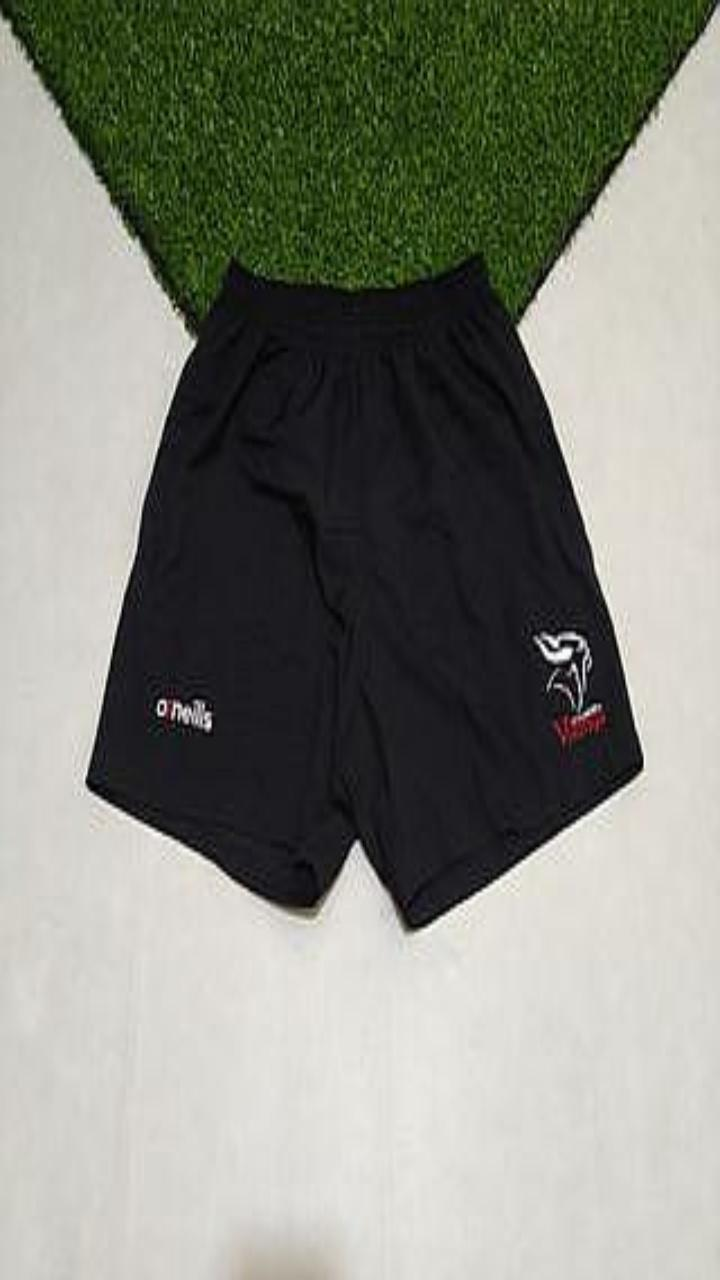Shorts: (87, 257, 642, 927)
